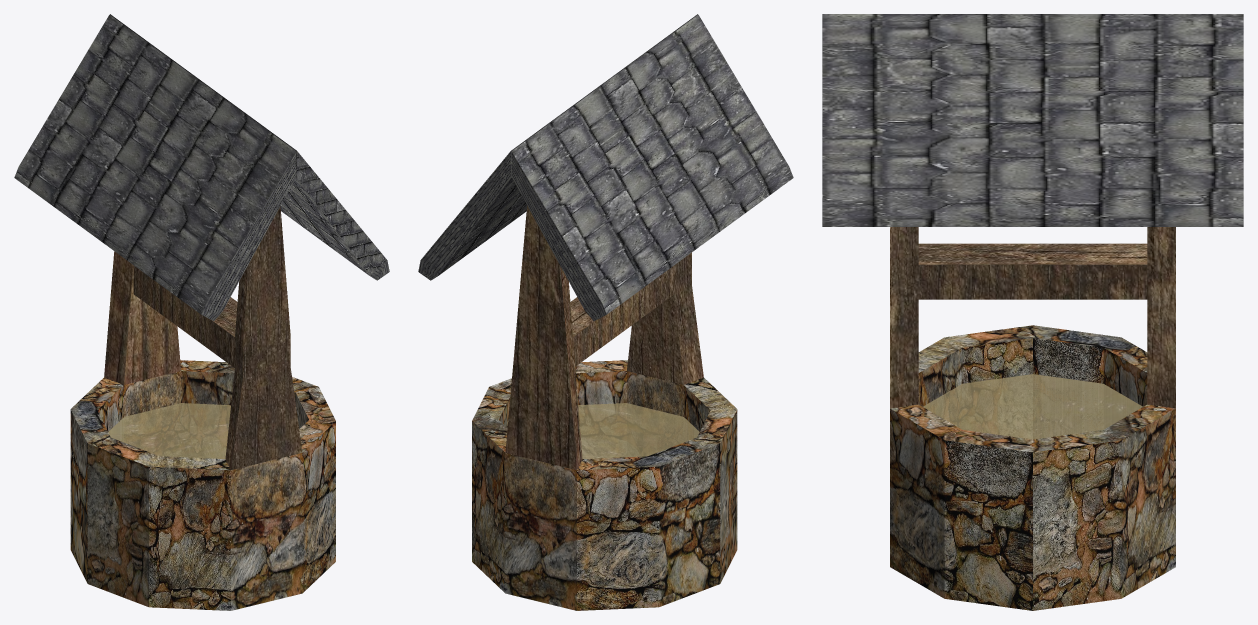
The model's file is WellBuildning 1.fbx.
3 renders of one model, left to right at view 1: azimuth 30°, elevation 25°; view 2: azimuth 150°, elevation 25°; view 3: azimuth 270°, elevation 25°, orthographic. The views are drawn at different scales.
Parts seen in each view (by area): view 1: polySurface6; view 2: polySurface6; view 3: polySurface6.
Boxes of the visible parts, <box> form: polySurface6: <box>14,14,389,610</box>; polySurface6: <box>418,14,793,610</box>; polySurface6: <box>822,14,1243,610</box>.
Bounding box in the file's own units: 7.25 × 14.17 × 10.14.
Materials: 5 (4 with a texture image).
